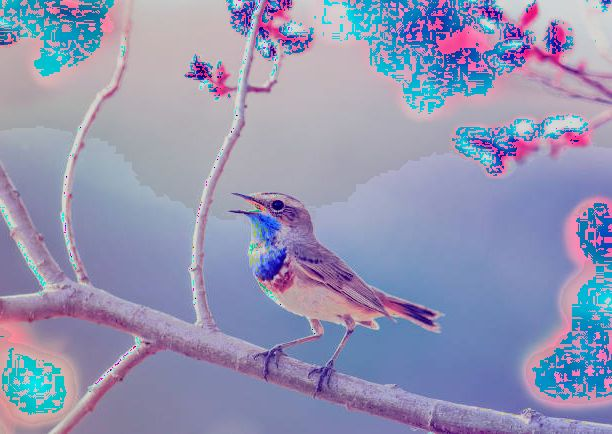Bird: (221, 183, 443, 400)
